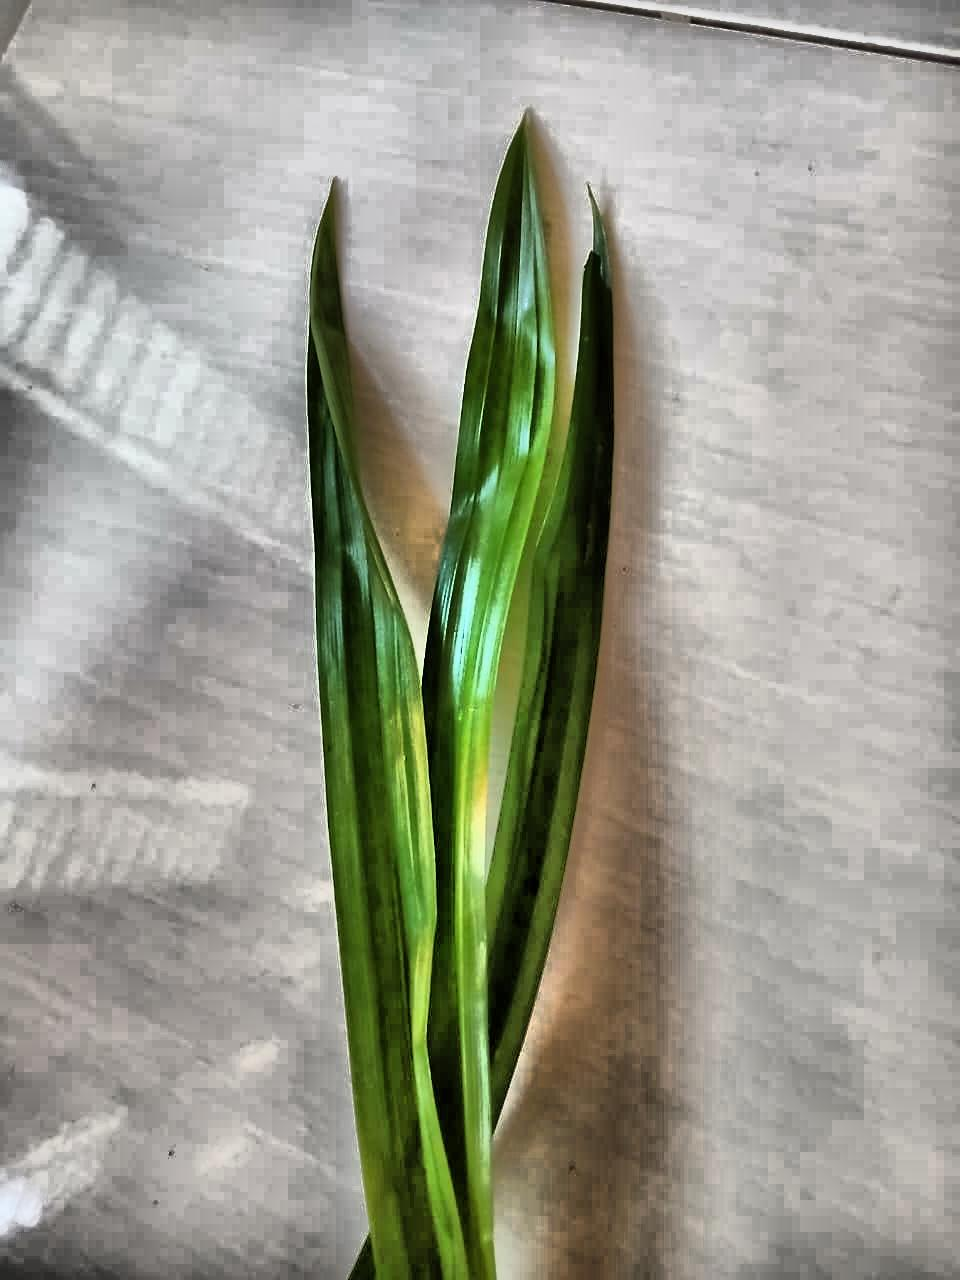daun pandan: (306, 116, 613, 1279)
